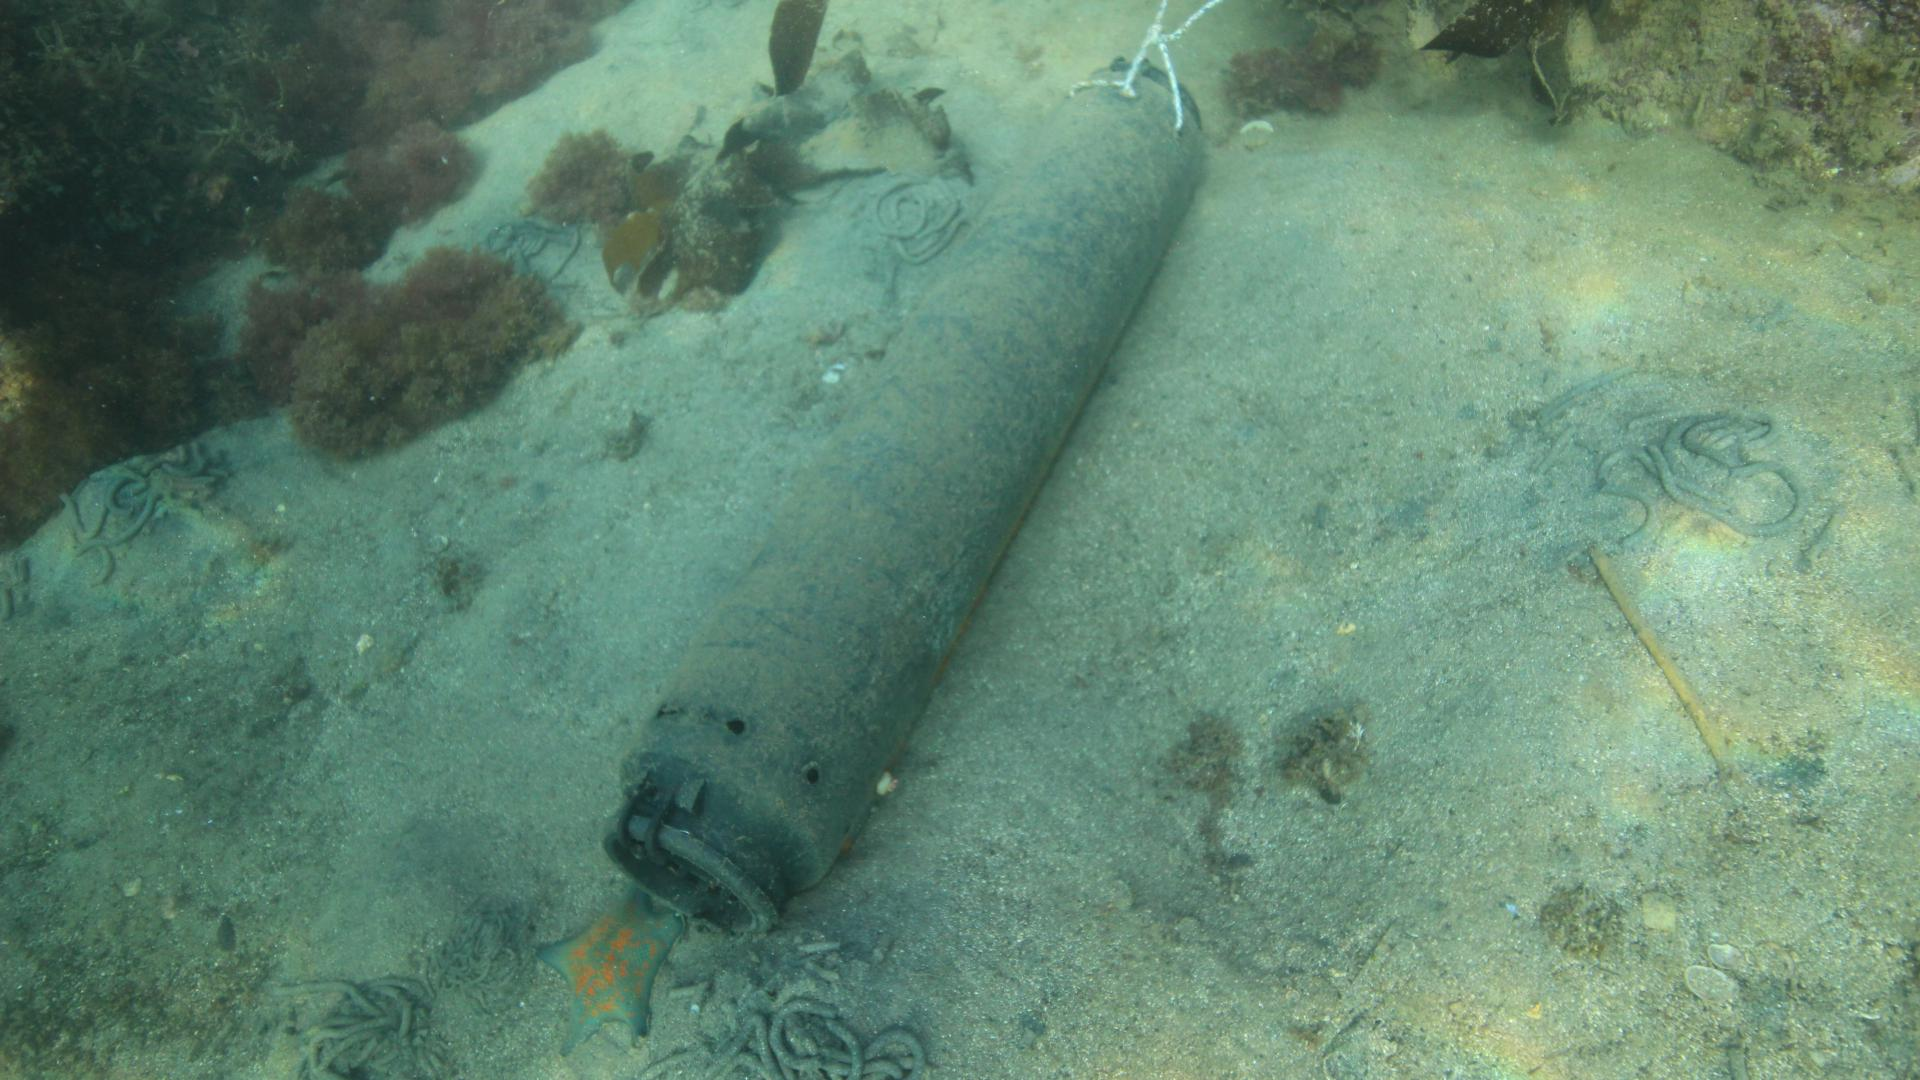bundle of ropes: (1065, 0, 1221, 132)
eel fish trap: (599, 57, 1213, 942)
